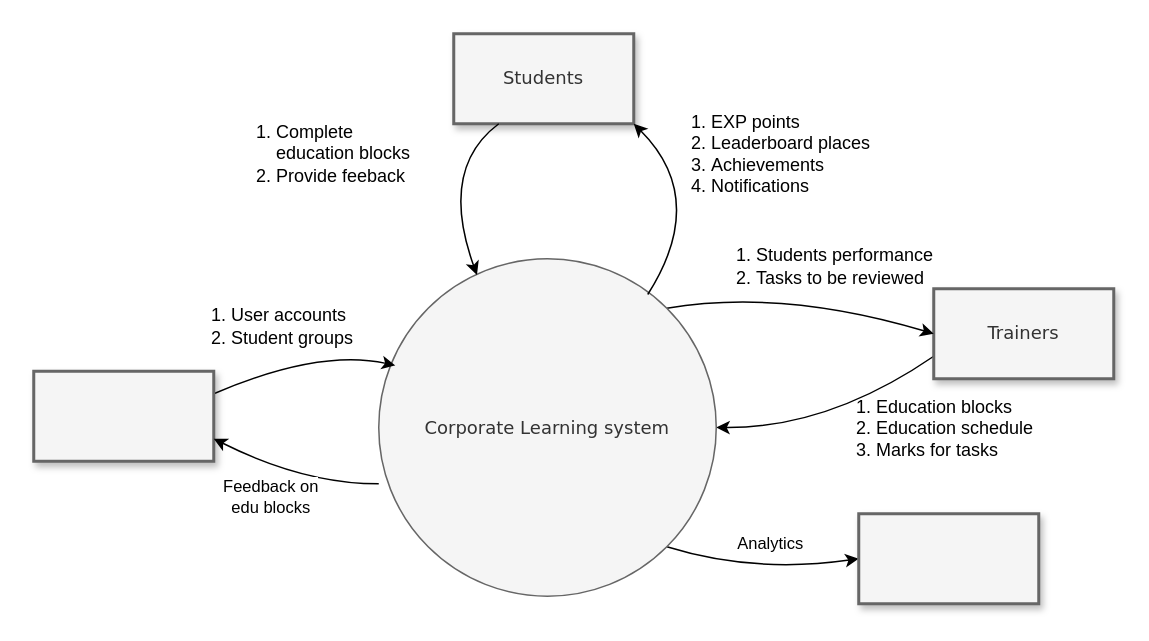
Some shapes in this 1149 by 641 pixel diagram are drawn without their labels. Here are the shapes that lost their labels. From the top down, the centre of each, then its label:
the point at 125,417: Administrators
the point at 949,560: Managers
